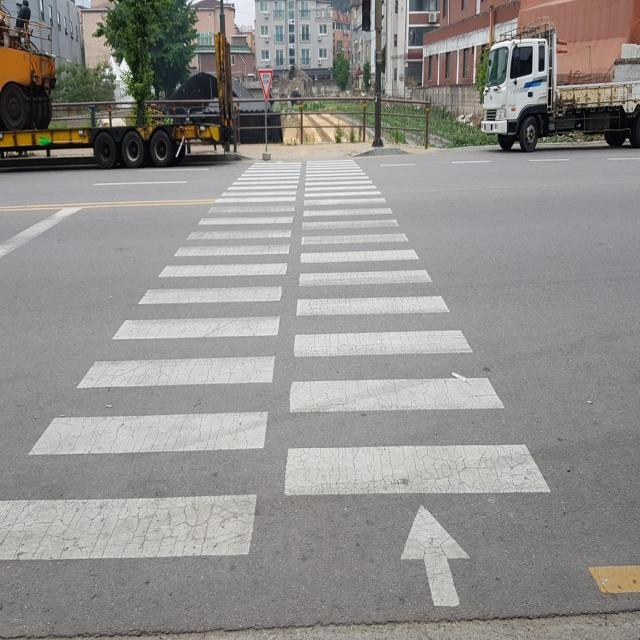횡단보도: (0, 153, 554, 610)
